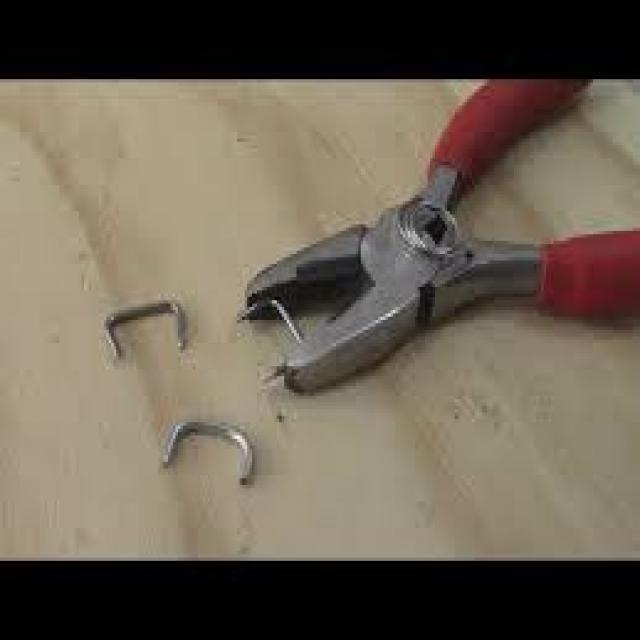pliers: (243, 62, 640, 418)
